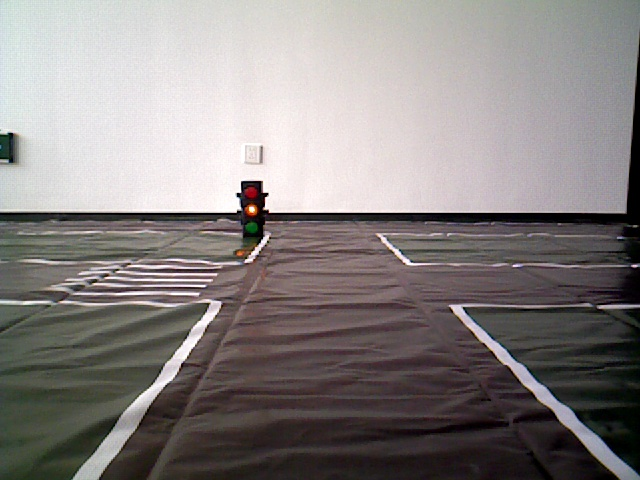yellow: (241, 180, 265, 234)
